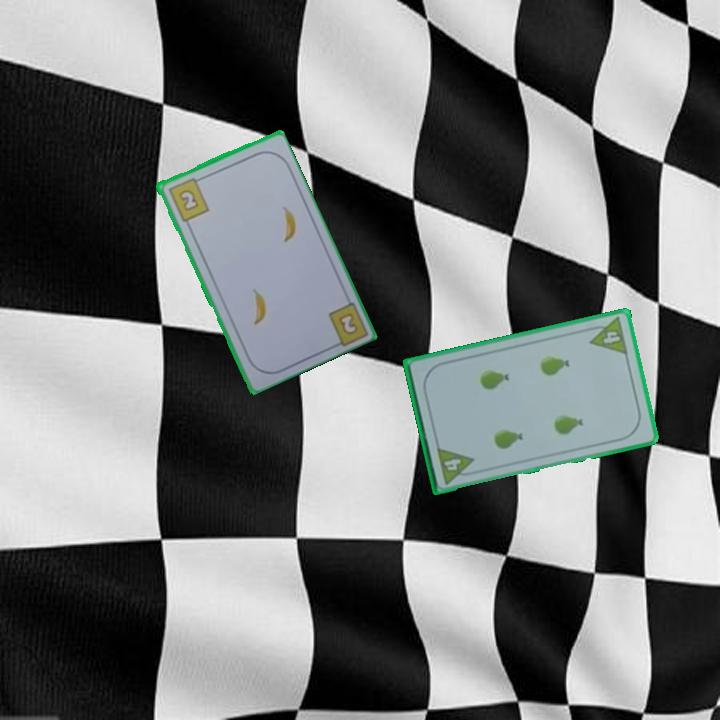2b: (165, 174, 211, 224), (335, 309, 361, 338)
4p: (584, 314, 631, 357), (434, 443, 479, 487)
